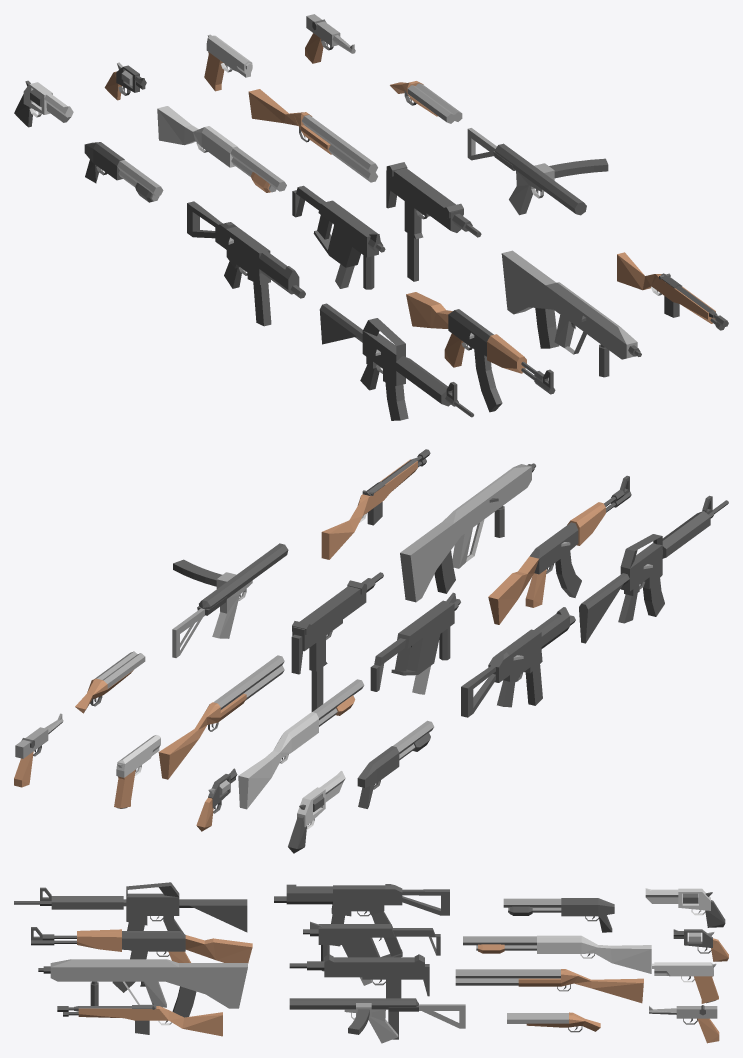
File: PumpShotgun.fbx
3 renders of one model, top to bottom at view 1: azimuth 30°, elevation 25°; view 2: azimuth 150°, elevation 25°; view 3: azimuth 270°, elevation 25°, orthographic. The views are drawn at different scales.
Visible parts, largest first — view 1: AUG_Body, M4_Body, AK_Body, UMP_Body, Vector_Body, UZI_Body, Sterling_Body, TacticalPump_Body, M14_Body, CombatPump_Body, LongGun_Barrels, Python_Body (+10 smaller); view 2: AUG_Body, M4_Body, AK_Body, UMP_Body, Vector_Body, Sterling_Body, UZI_Body, TacticalPump_Body, M14_Body, CombatPump_Body, LongGun_Body, Python_Body (+7 smaller); view 3: AUG_Body, M4_Body, AK_Body, UMP_Body, TacticalPump_Body, Vector_Body, UZI_Body, Sterling_Body, M14_Body, CombatPump_Body, LongGun_Barrels, LongGun_Body (+10 smaller).
Boxes of the visible parts, x1,y1,x2,y2 form: AUG_Body: (501,250,641,377); M4_Body: (319,303,473,417); AK_Body: (406,292,555,394); UMP_Body: (187,201,305,298); Vector_Body: (292,185,385,289); UZI_Body: (386,168,481,239); Sterling_Body: (467,128,586,215); TacticalPump_Body: (157,106,286,192); M14_Body: (617,252,728,330); CombatPump_Body: (84,142,163,200); LongGun_Barrels: (302,115,377,182); Python_Body: (14,82,73,127); AUG_Body: (400,463,535,602); M4_Body: (579,495,728,643); AK_Body: (488,475,631,624); UMP_Body: (461,607,575,717); Vector_Body: (370,592,460,691); Sterling_Body: (172,543,288,657); UZI_Body: (291,572,383,674); TacticalPump_Body: (238,679,364,809); M14_Body: (321,449,430,559); CombatPump_Body: (357,720,434,808); LongGun_Body: (158,702,226,779); Python_Body: (288,771,345,853); AUG_Body: (38,959,247,1008); M4_Body: (14,882,247,933); AK_Body: (31,927,252,963); UMP_Body: (274,884,449,923); TacticalPump_Body: (463,935,651,973); Vector_Body: (303,921,440,971); UZI_Body: (289,954,429,998); Sterling_Body: (289,998,465,1043); M14_Body: (57,1006,222,1036); CombatPump_Body: (503,898,614,932); LongGun_Barrels: (455,969,560,986); LongGun_Body: (551,969,643,1003).
Size of the model in its own units: 101 by 28.07 by 215.
